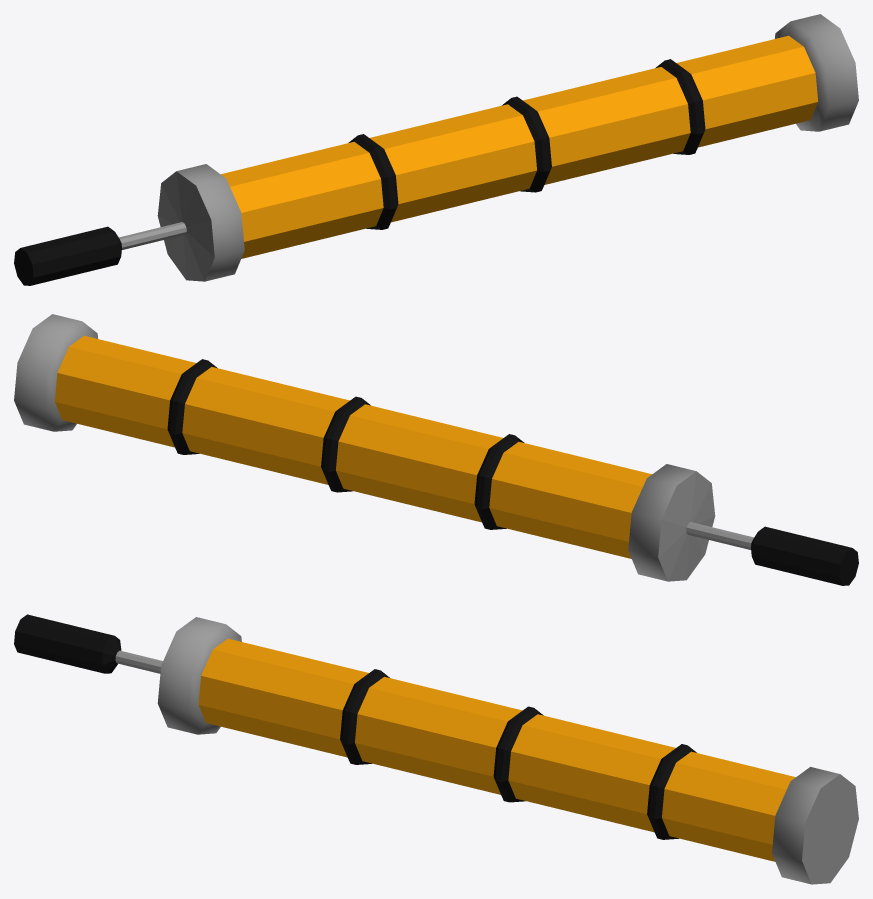
Rendered from Luz del suelo.obj.
3 renders of one model, top to bottom at view 1: azimuth 30°, elevation 25°; view 2: azimuth 150°, elevation 25°; view 3: azimuth 330°, elevation 25°, orthographic.
Visible parts, largest first — view 1: Object004; view 2: Object004; view 3: Object004.
Part boxes in pixels (x1,y1,x2,y2): Object004: (14,14,858,285); Object004: (14,314,858,585); Object004: (14,614,858,884).
Bounding box in the file's own units: 559 × 67.46 × 68.5.
